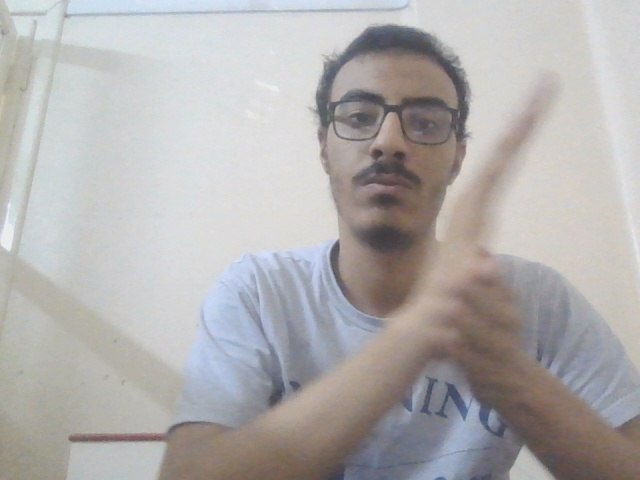Movie: (417, 65, 566, 399)
